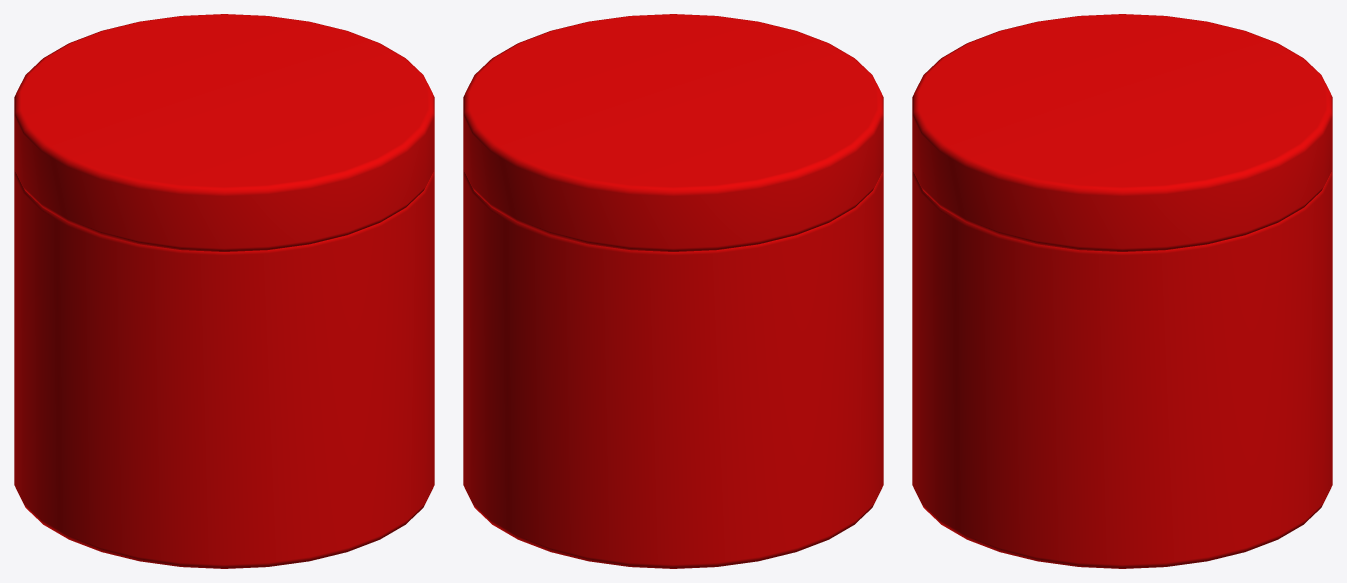
The model's file is Package_11.fbx.
The picture shows the model from 3 angles, left to right: view 1: azimuth 30°, elevation 25°; view 2: azimuth 150°, elevation 25°; view 3: azimuth 270°, elevation 25°; orthographic projection.
Visible parts, largest first — view 1: L13:polySurface14; view 2: L13:polySurface14; view 3: L13:polySurface14.
Boxes of the visible parts, left/top/right/bottom form: L13:polySurface14: left=14, top=14, right=434, bottom=568; L13:polySurface14: left=463, top=14, right=883, bottom=568; L13:polySurface14: left=912, top=14, right=1332, bottom=568.
Size of the model in its own units: 13.46 by 13.43 by 13.39.
